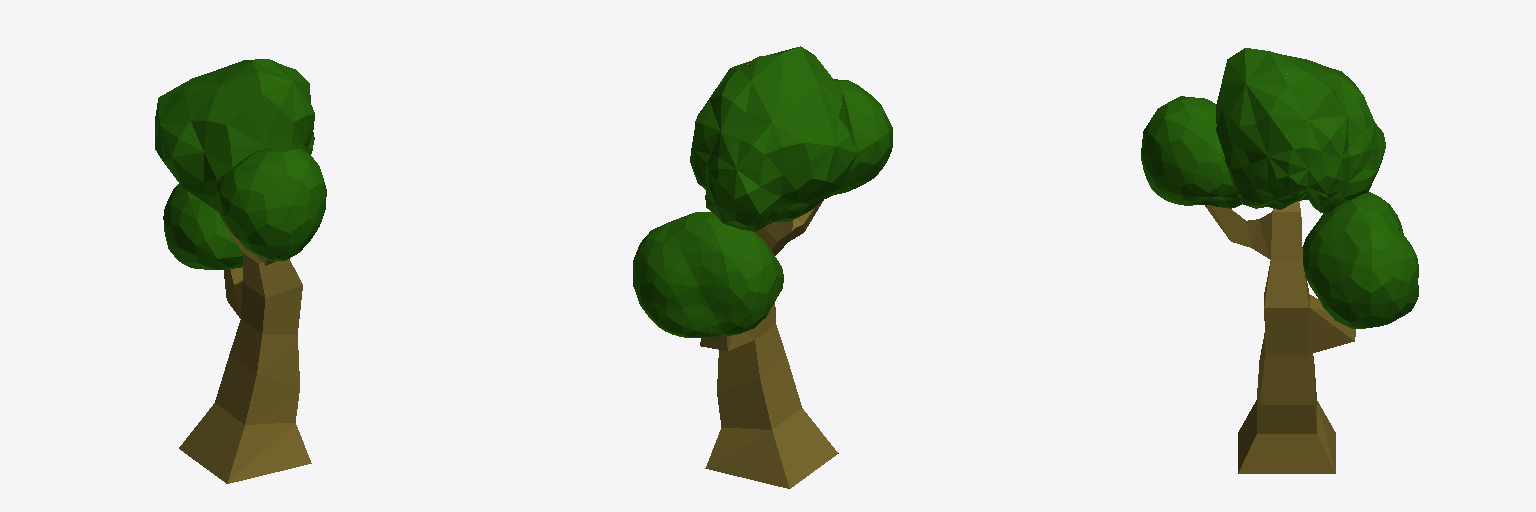
3 views of the same model, side by side, from view 1: azimuth 30°, elevation 25°; view 2: azimuth 150°, elevation 25°; view 3: azimuth 270°, elevation 25° (orthographic).
Parts seen in each view (by area): view 1: Tree_1_Cube.009; view 2: Tree_1_Cube.009; view 3: Tree_1_Cube.009.
Part boxes in pixels (x1,y1,x2,y2): Tree_1_Cube.009: (155, 59, 326, 483); Tree_1_Cube.009: (633, 46, 892, 488); Tree_1_Cube.009: (1141, 48, 1418, 473).
Size of the model in its own units: 1.07 by 2.36 by 1.48.
Materials: 2 (1 with a texture image).